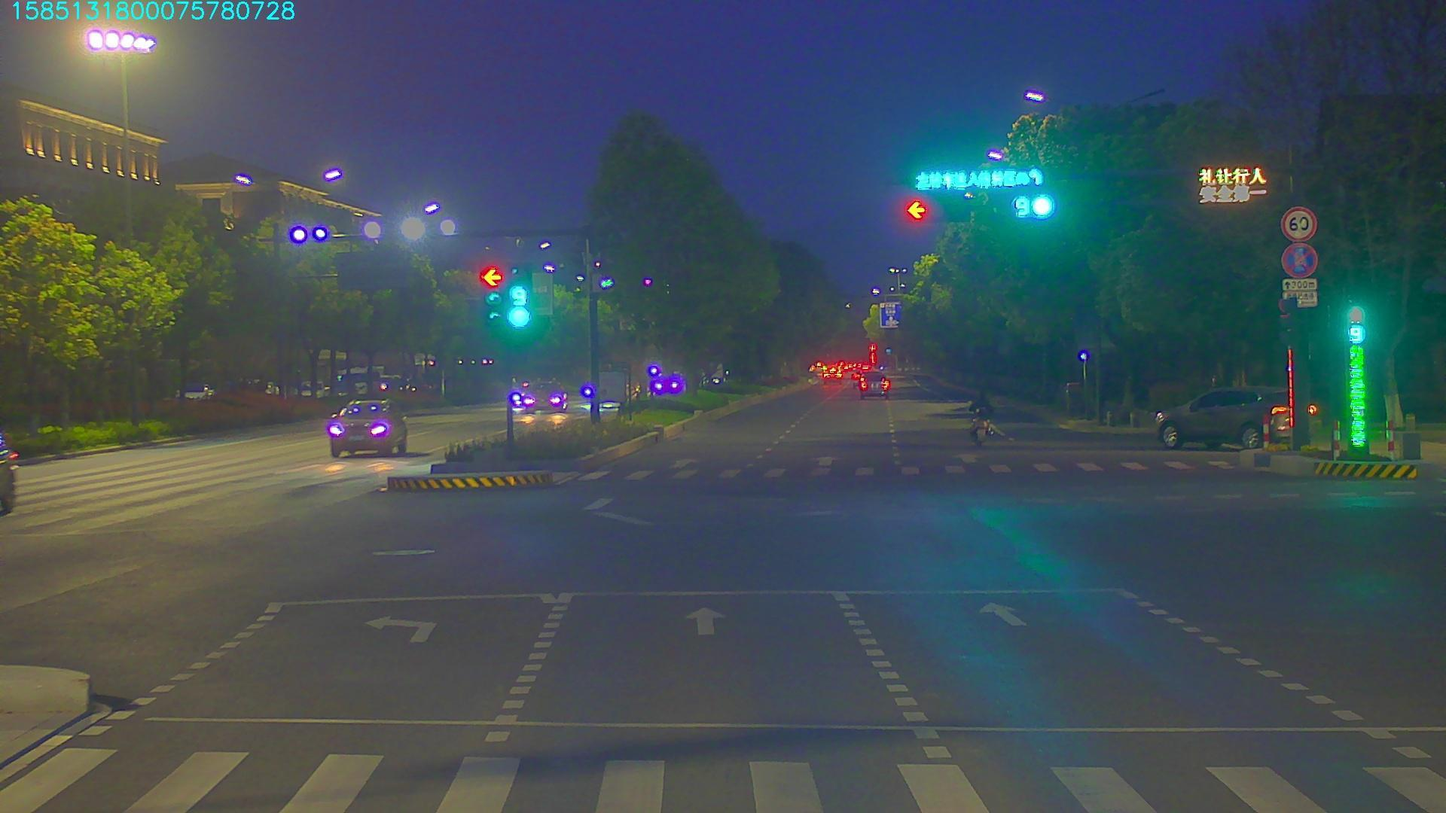green: (985, 190, 1051, 224)
red: (910, 195, 961, 224)
wait_on: (908, 167, 1051, 186)
